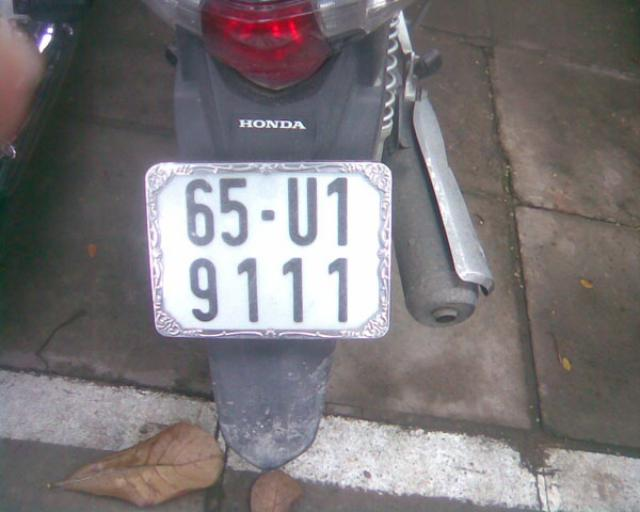plate: (144, 159, 398, 337)
